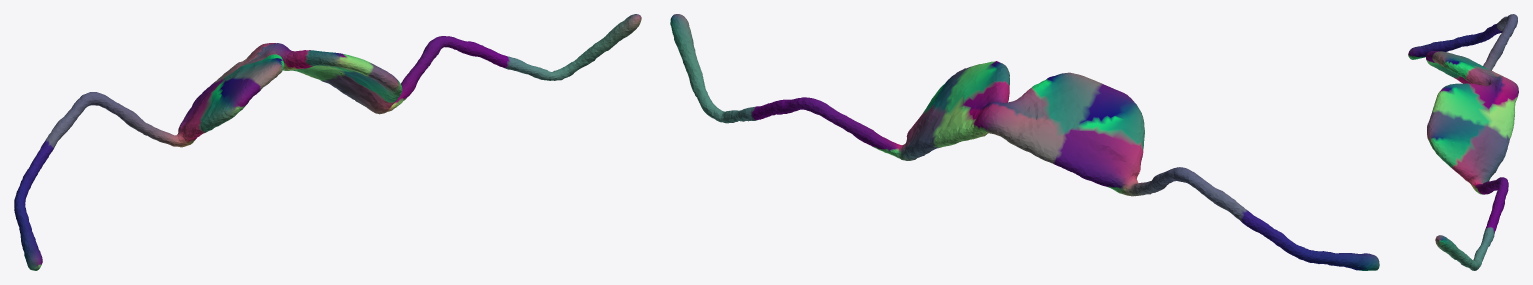
The model's file is glasses-7.off.obj.
The picture shows the model from 3 angles, left to right: view 1: azimuth 30°, elevation 25°; view 2: azimuth 150°, elevation 25°; view 3: azimuth 270°, elevation 25°; orthographic projection. The views are drawn at different scales.
Size of the model in its own units: 1.71 by 0.3372 by 0.3071.
